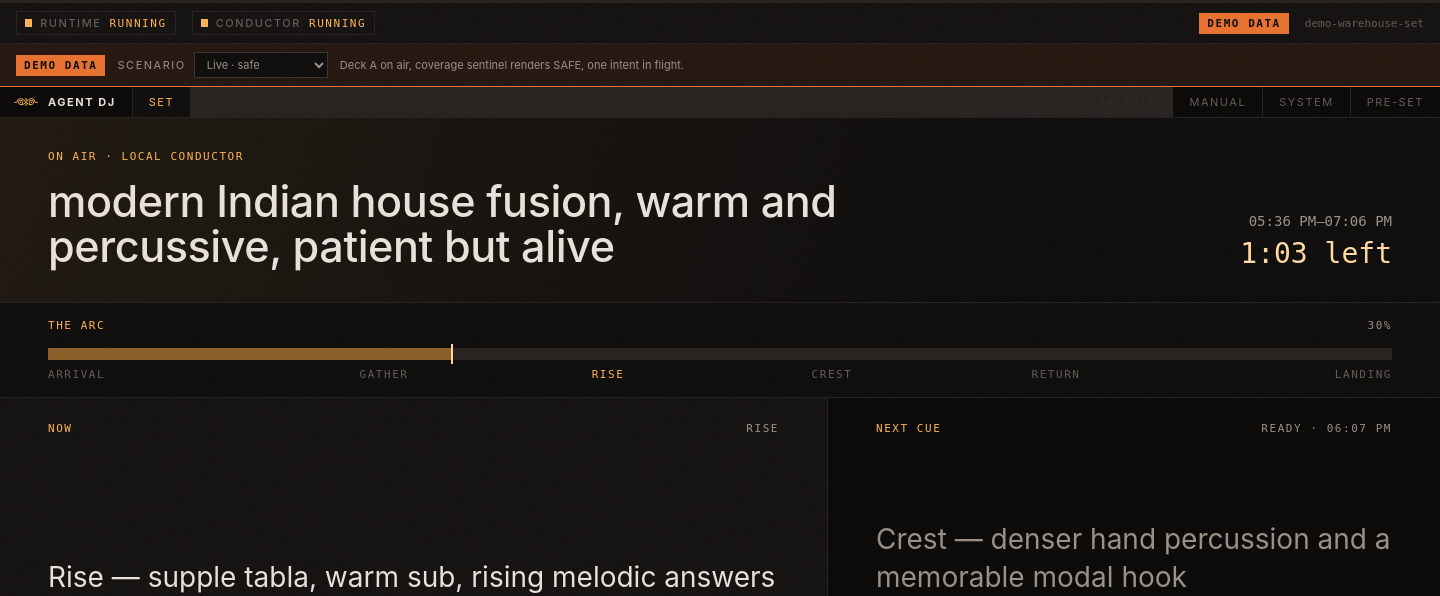
Test case: control room › does not erase an in-progress prompt edit when live snapshot data changes
Click the button with aria-label "Control room" at (1218, 102), box [1173, 87, 1262, 117]
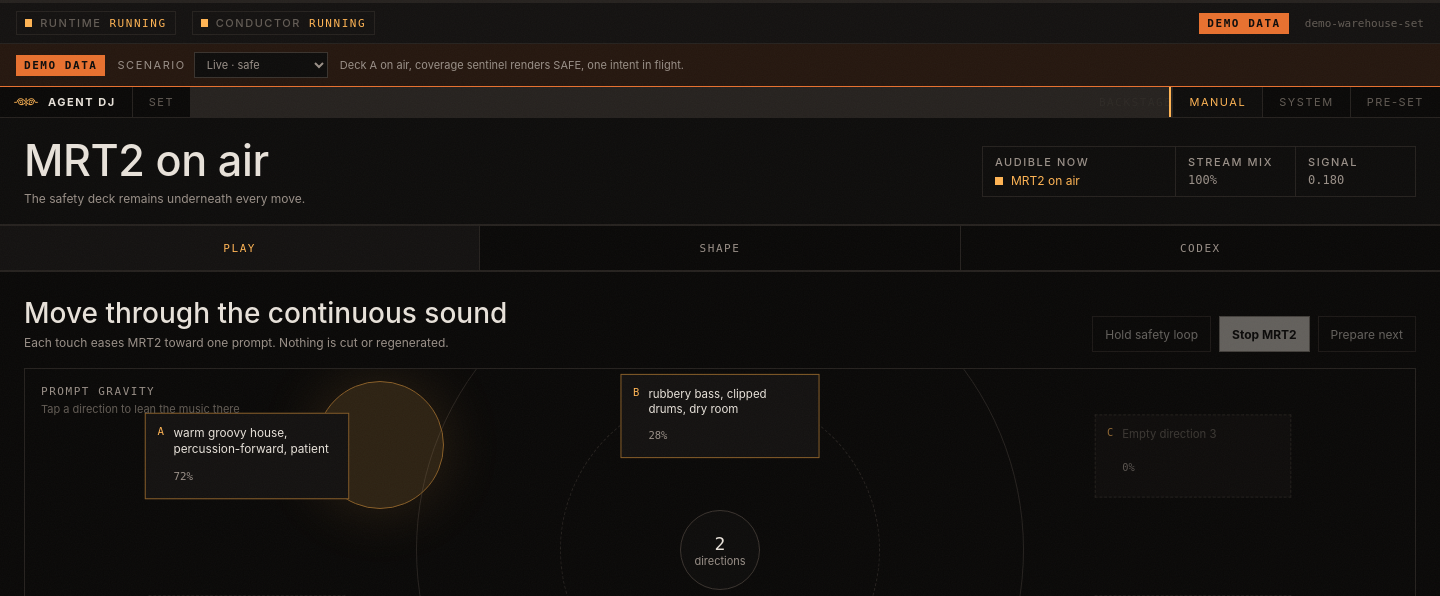
Click the button "Shape" at (720, 248), box [480, 226, 960, 270]
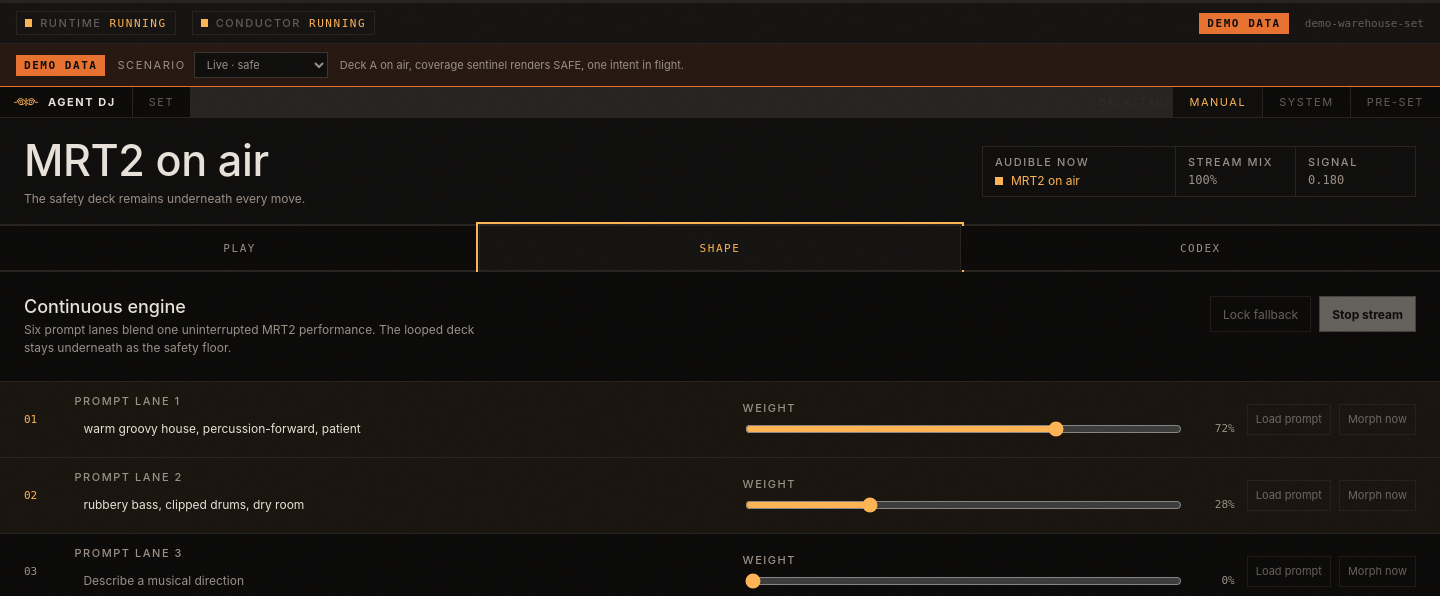
Replace the text in the field labelled "Prompt lane 1" with "dry broken beat, no filter sweeps" at (402, 428), box [74, 412, 731, 445]
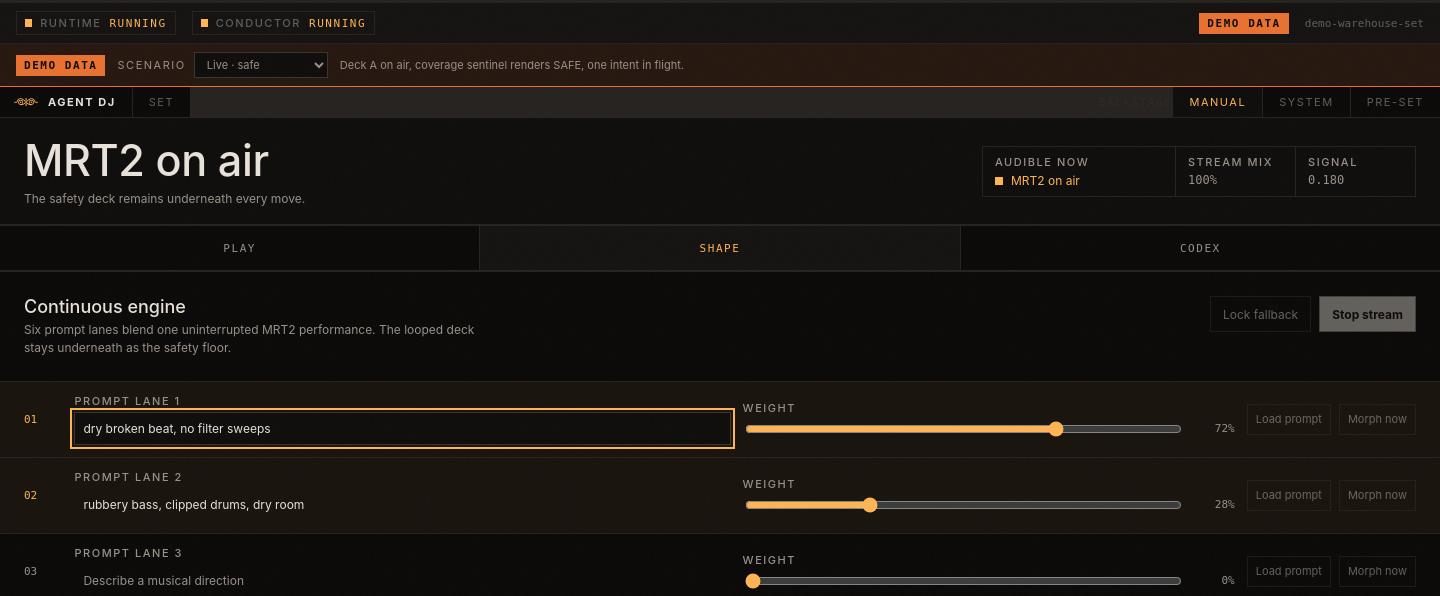
Select "Agent absent" in the dropdown labelled "Scenario" at (261, 65), box [194, 52, 328, 78]
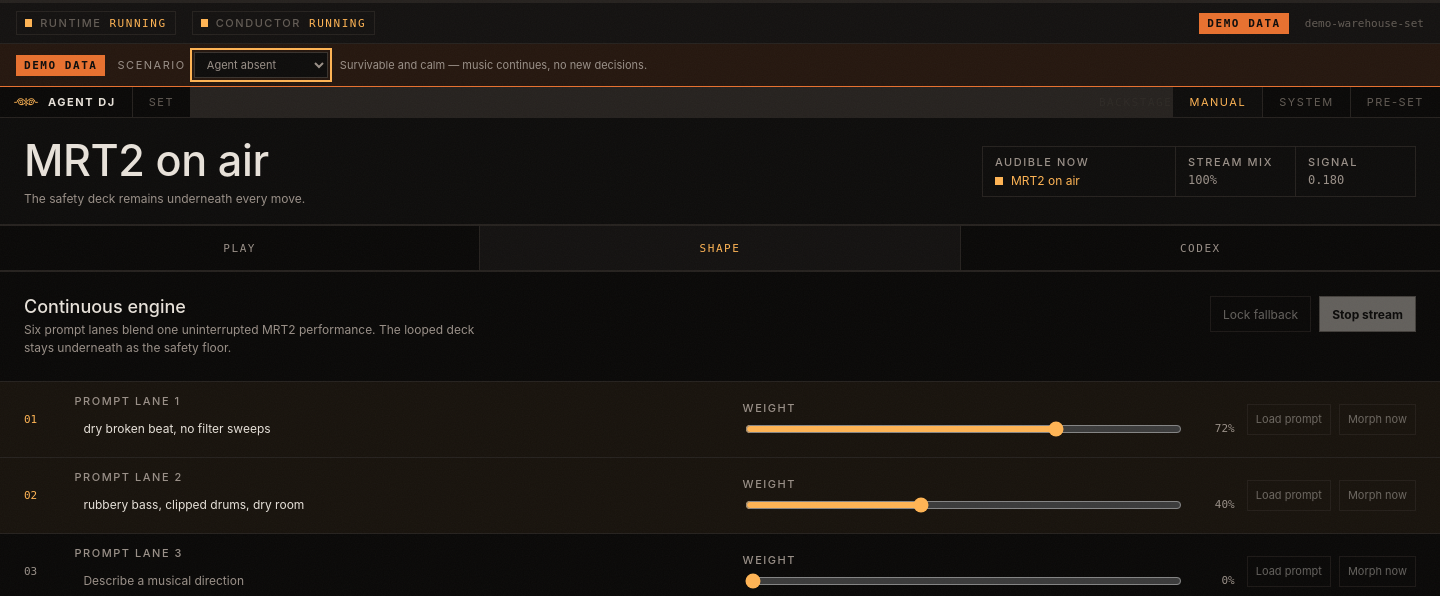
Now the slider named "Prompt lane 2 weight" holds "0.4", box [745, 496, 1182, 512]
